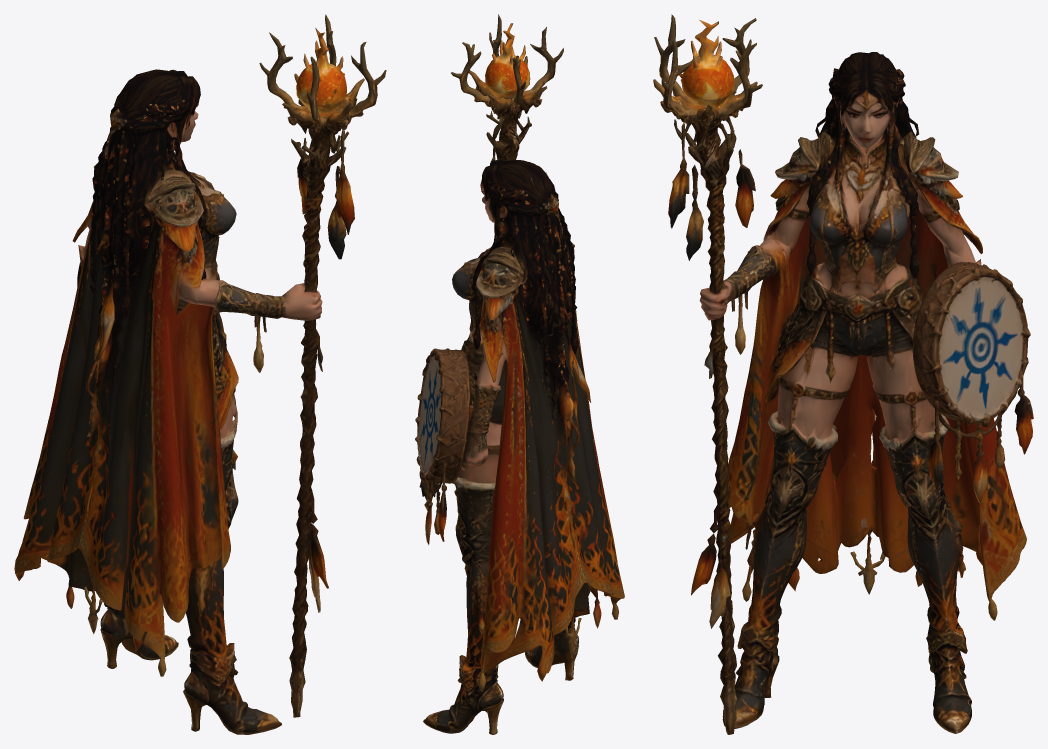
Rendered from drumcaller2_T6-tripo.glb.
The picture shows the model from 3 angles, left to right: view 1: azimuth 30°, elevation 25°; view 2: azimuth 150°, elevation 25°; view 3: azimuth 270°, elevation 25°; orthographic projection. The views are drawn at different scales.
Parts seen in each view (by area): view 1: tripo_node_a39debe9-422d-47b4-8ded-9adc1bc0d5ab; view 2: tripo_node_a39debe9-422d-47b4-8ded-9adc1bc0d5ab; view 3: tripo_node_a39debe9-422d-47b4-8ded-9adc1bc0d5ab.
Boxes of the visible parts, <box> form: tripo_node_a39debe9-422d-47b4-8ded-9adc1bc0d5ab: <box>14,14,386,734</box>; tripo_node_a39debe9-422d-47b4-8ded-9adc1bc0d5ab: <box>415,14,624,734</box>; tripo_node_a39debe9-422d-47b4-8ded-9adc1bc0d5ab: <box>653,14,1033,734</box>.
Size of the model in its own units: 0.3307 by 1 by 0.4741.
Materials: 1 (1 with a texture image).
